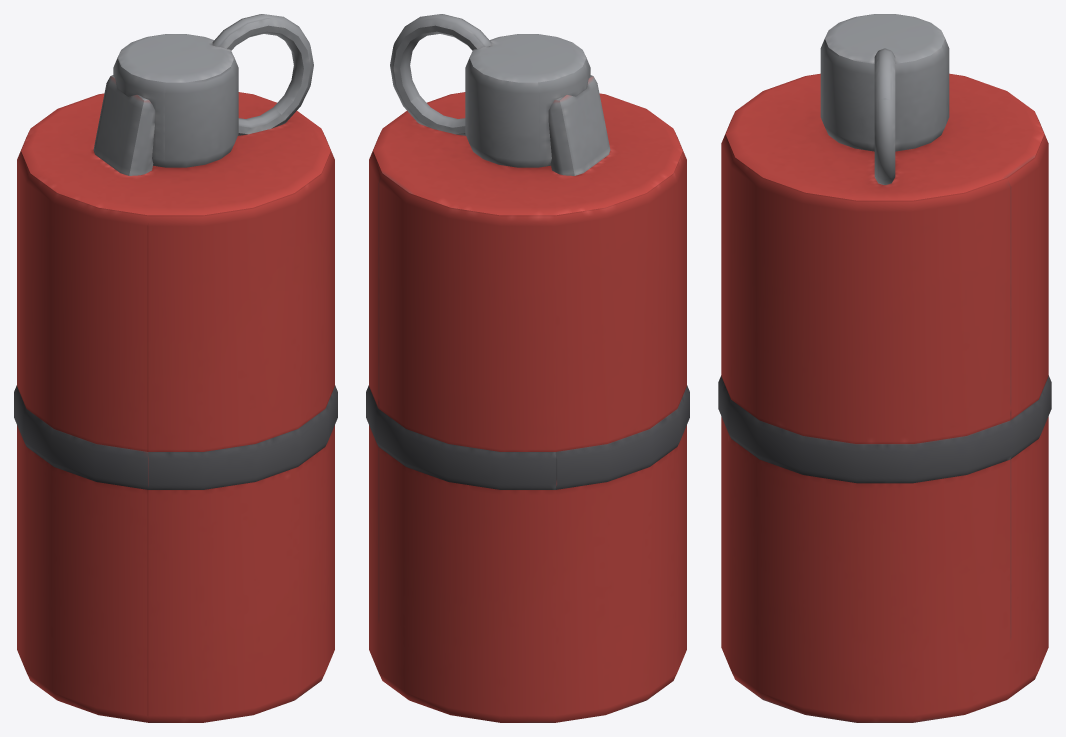
File: incendiary.fbx
3 renders of one model, left to right at view 1: azimuth 30°, elevation 25°; view 2: azimuth 150°, elevation 25°; view 3: azimuth 270°, elevation 25°, orthographic. The views are drawn at different scales.
Visible parts, largest first — view 1: incendiary; view 2: incendiary; view 3: incendiary.
Part boxes in pixels (left/top/right/bottom): incendiary: left=14, top=14, right=337, bottom=722; incendiary: left=366, top=14, right=689, bottom=722; incendiary: left=718, top=14, right=1051, bottom=722.
Size of the model in its own units: 0.0561 by 0.1216 by 0.057.
